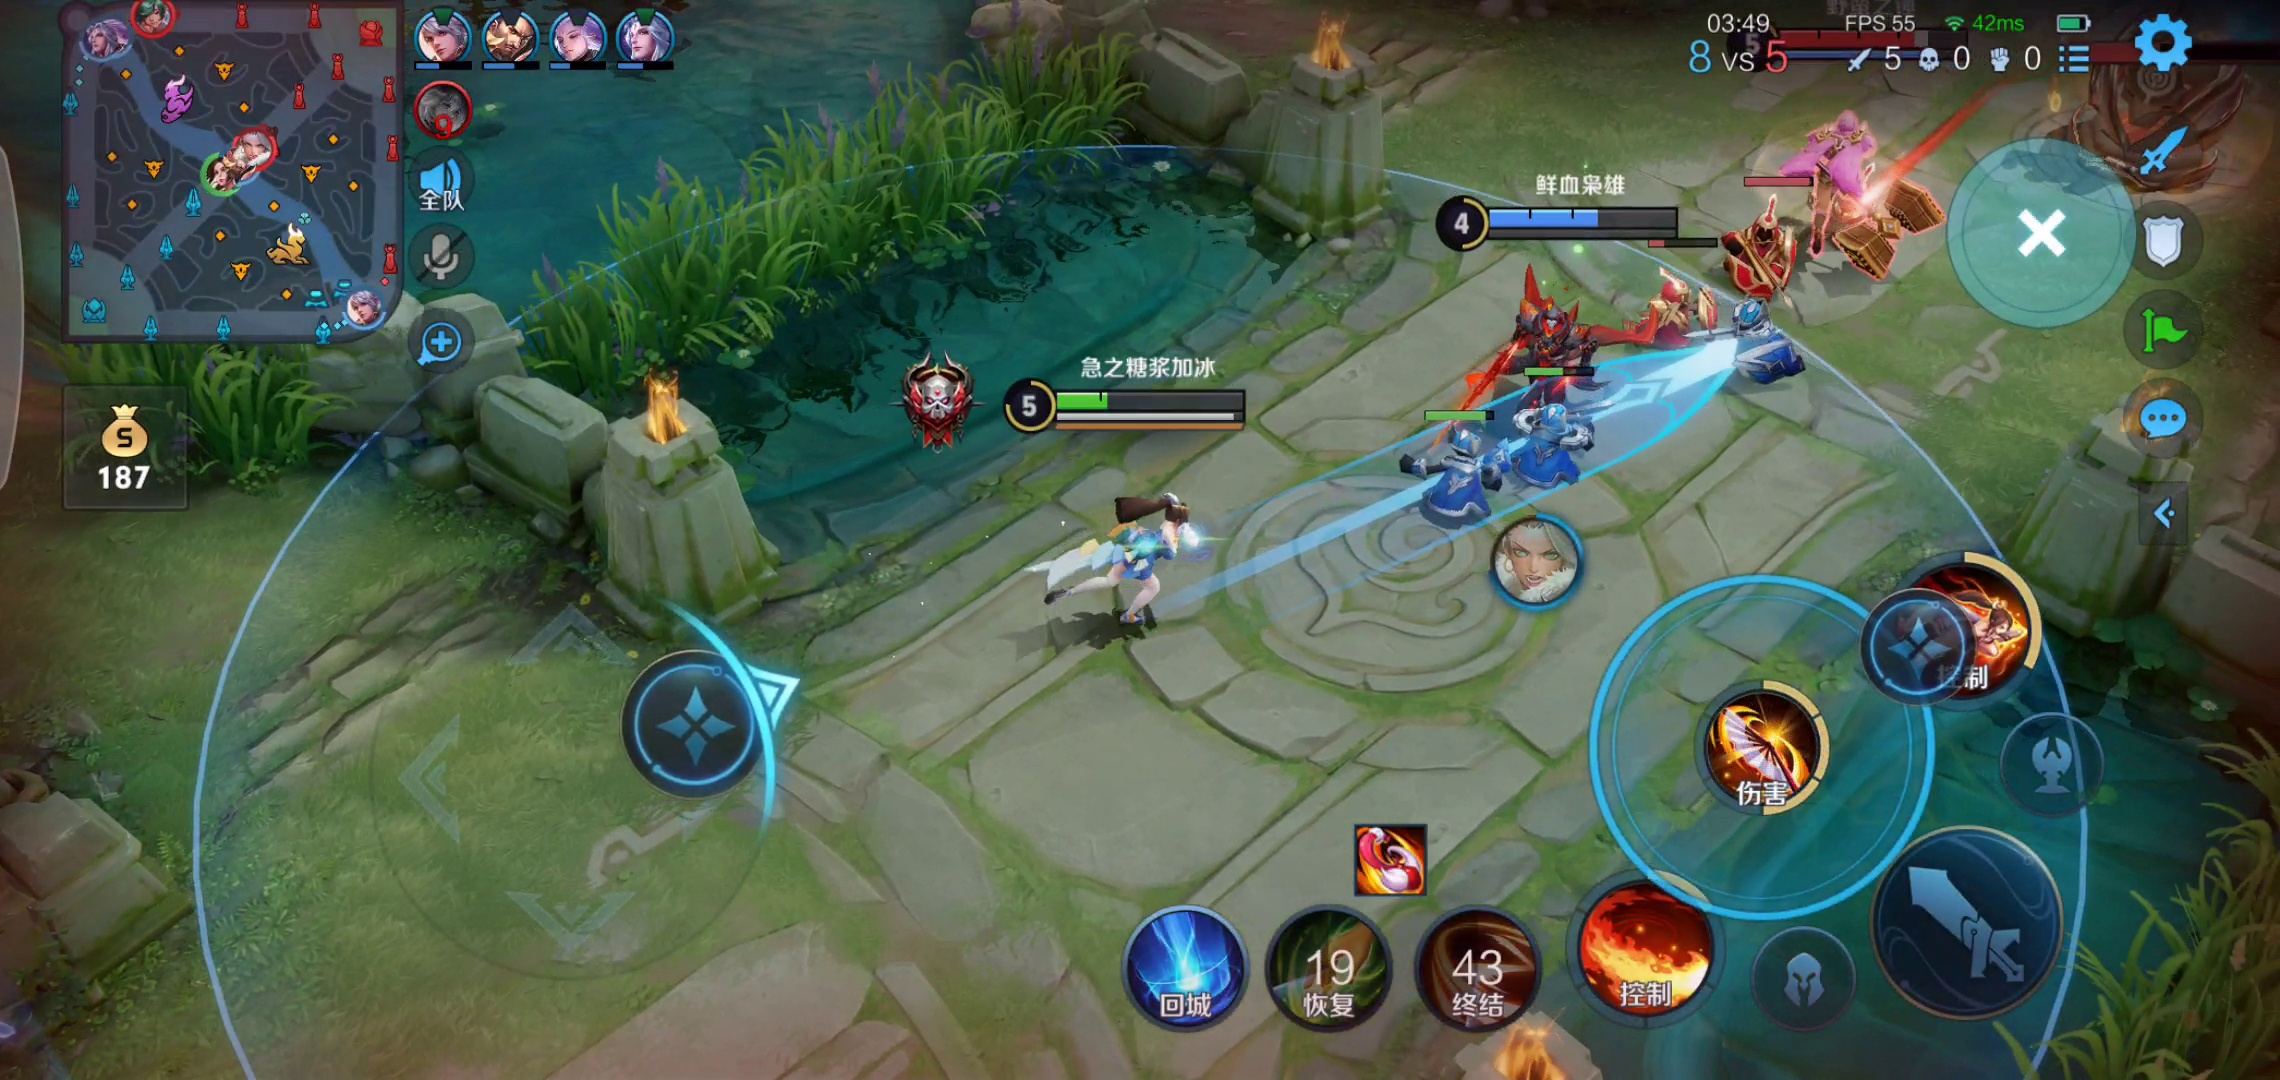grass: (494, 49, 1160, 385), (2036, 736, 2264, 1080), (51, 334, 343, 488)
hero: (1015, 484, 1224, 642), (1773, 102, 1935, 286), (1460, 286, 1627, 424)
soldier: (1394, 440, 1533, 517), (1714, 206, 1822, 295), (1725, 299, 1816, 390), (1626, 267, 1713, 359)
tower: (2046, 10, 2258, 209)
